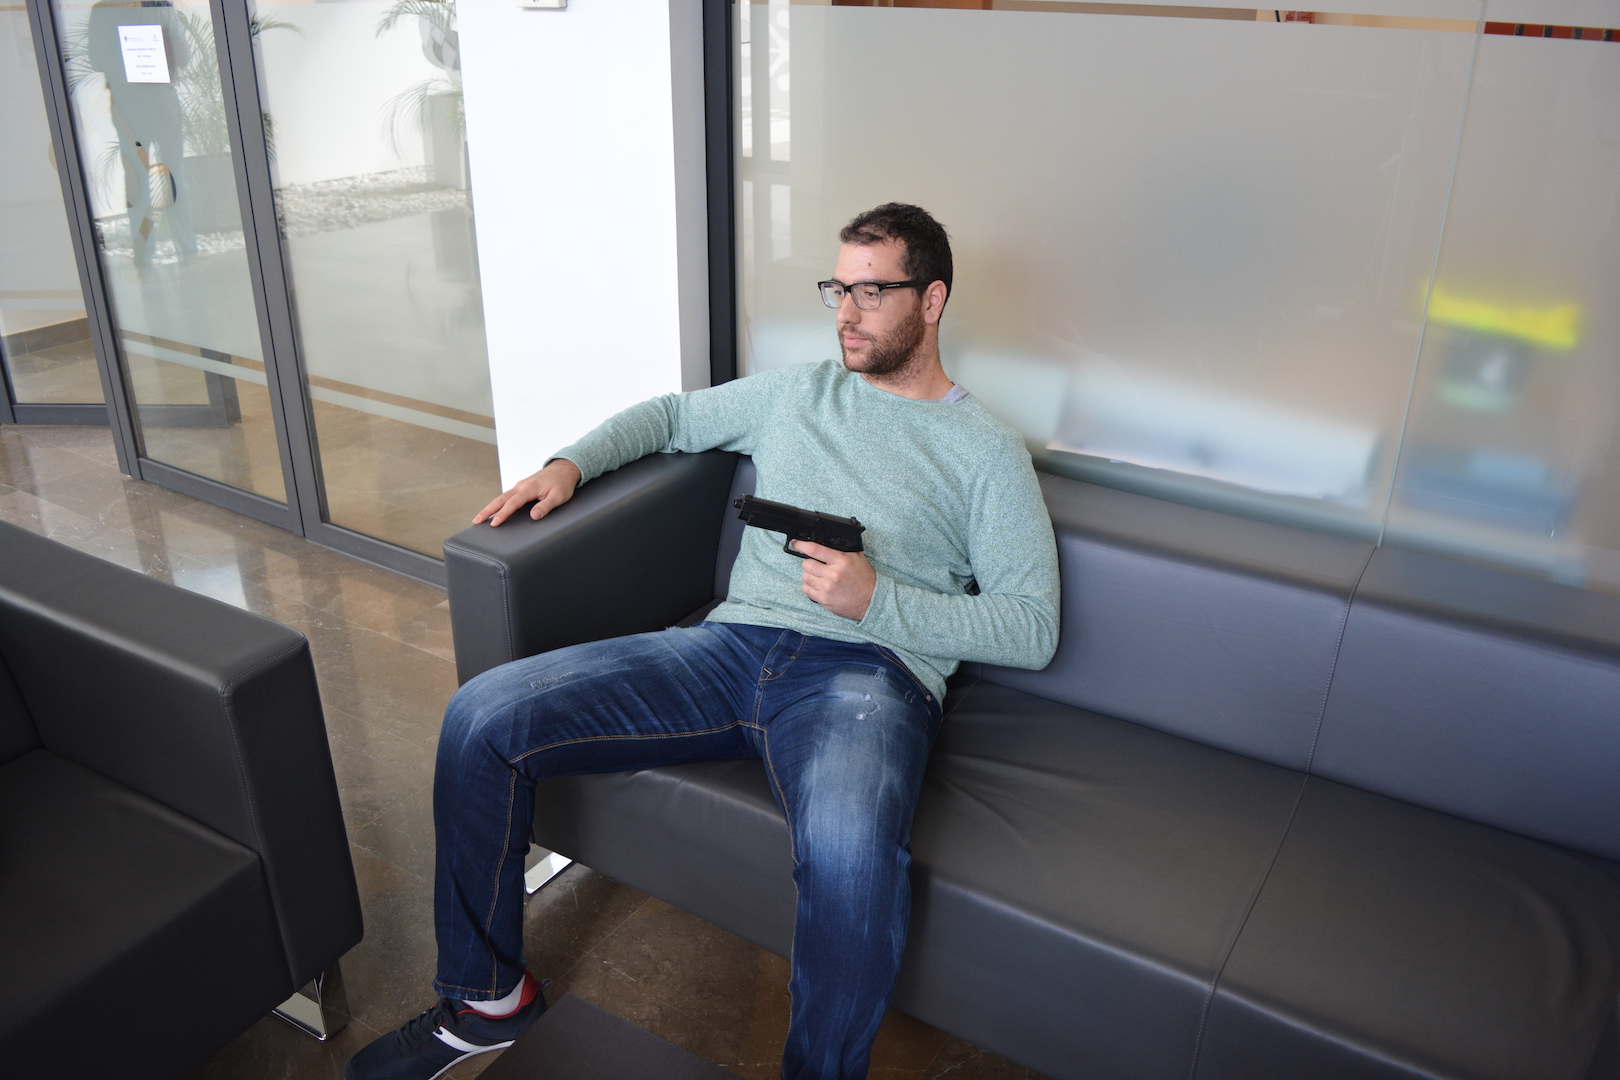pistol: (733, 492, 865, 604)
